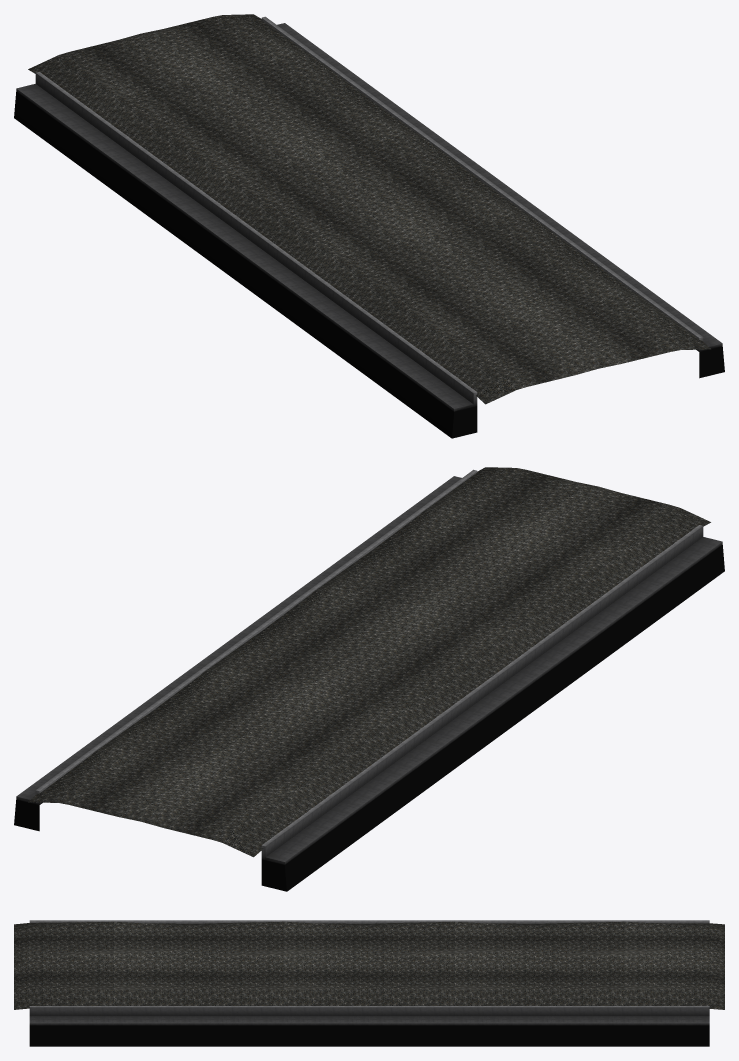
Rendered from AMB_TOB_JARI.glb.
The picture shows the model from 3 angles, top to bottom: view 1: azimuth 30°, elevation 25°; view 2: azimuth 150°, elevation 25°; view 3: azimuth 270°, elevation 25°; orthographic projection. The views are drawn at different scales.
Visible parts, largest first — view 1: LeftWall; view 2: LeftWall; view 3: LeftWall.
Boxes of the visible parts, <box> form: LeftWall: <box>14,14,724,438</box>; LeftWall: <box>14,467,724,891</box>; LeftWall: <box>14,920,724,1046</box>.
Bounding box in the file's own units: 36 × 6.64 × 105.
2 materials, 2 textured.
